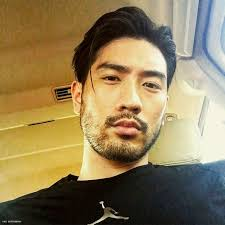asian_male: (73, 37, 181, 162)
